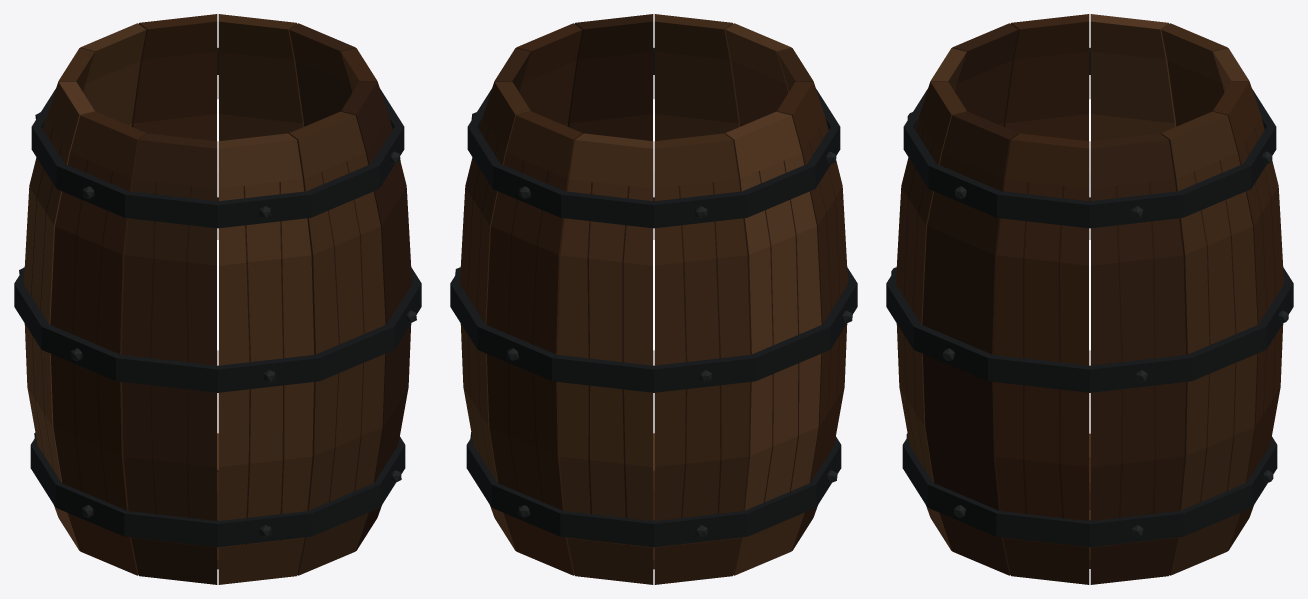
The model's file is Barrel_Open.fbx.
3 views of the same model, side by side, from view 1: azimuth 30°, elevation 25°; view 2: azimuth 150°, elevation 25°; view 3: azimuth 270°, elevation 25° (orthographic).
Visible parts, largest first — view 1: Barrel_Open; view 2: Barrel_Open; view 3: Barrel_Open.
Part boxes in pixels (bbox=[...]): Barrel_Open: bbox=[14, 14, 421, 584]; Barrel_Open: bbox=[450, 14, 857, 584]; Barrel_Open: bbox=[886, 14, 1293, 584].
Size of the model in its own units: 0.796 by 0.94 by 0.796.
2 materials, 2 textured.
